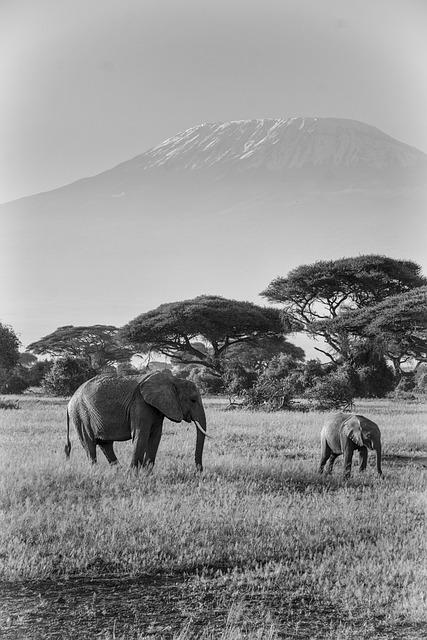Non_Gorille: (62, 227, 427, 598)
